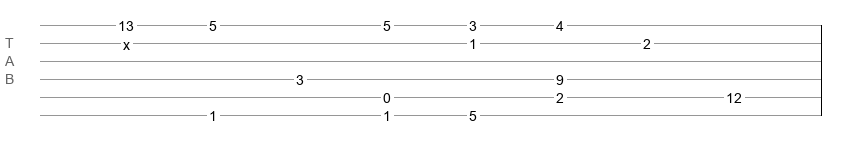0: (383, 90, 391, 100)
1: (209, 108, 217, 118), (383, 108, 391, 118), (469, 36, 477, 46)
12: (726, 90, 742, 100)
13: (118, 18, 134, 28)
2: (556, 90, 564, 100), (643, 36, 651, 46)
3: (296, 72, 304, 82), (469, 18, 477, 28)
4: (556, 18, 564, 28)
5: (209, 18, 217, 28), (383, 18, 391, 28), (469, 108, 477, 118)
9: (556, 72, 564, 82)
x: (123, 37, 130, 45)
